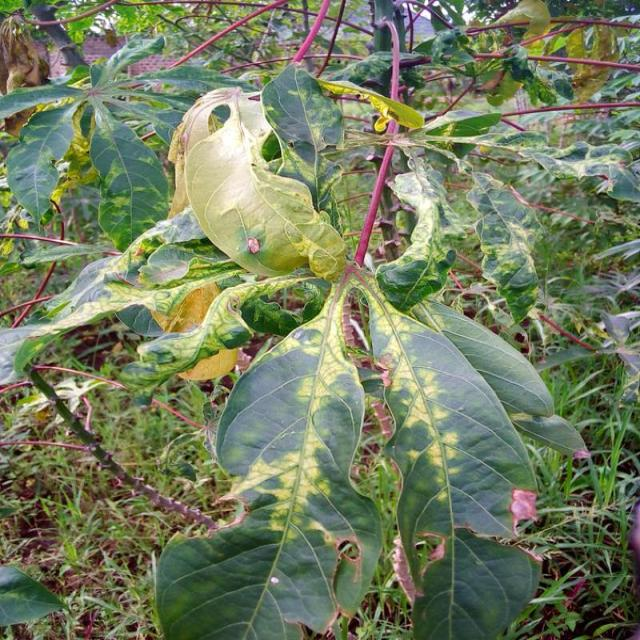cassava leaf: (155, 268, 384, 638), (358, 268, 546, 638), (184, 88, 349, 282)
